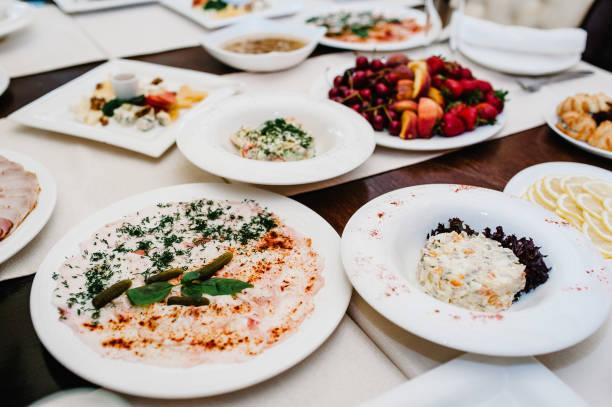Braised Crucian Carp: (29, 182, 346, 398), (338, 184, 600, 357), (177, 91, 371, 186), (318, 52, 512, 147)
